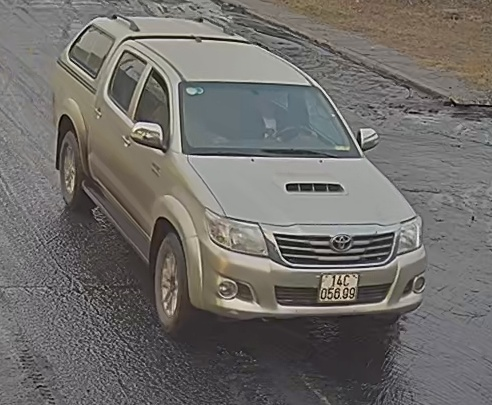vehicle plate: (314, 268, 362, 303)
